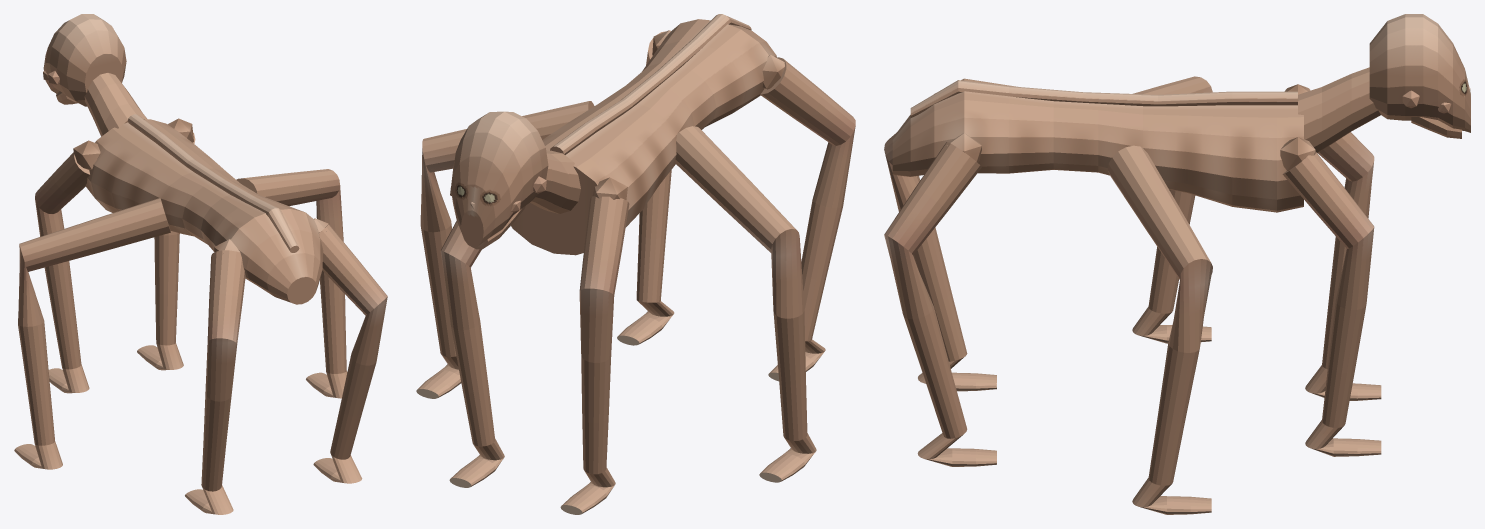
3 views of the same model, side by side, from view 1: azimuth 30°, elevation 25°; view 2: azimuth 150°, elevation 25°; view 3: azimuth 270°, elevation 25° (orthographic). The views are drawn at different scales.
Size of the model in its own units: 1.51 by 1.52 by 1.97.
1 material, 1 textured.
